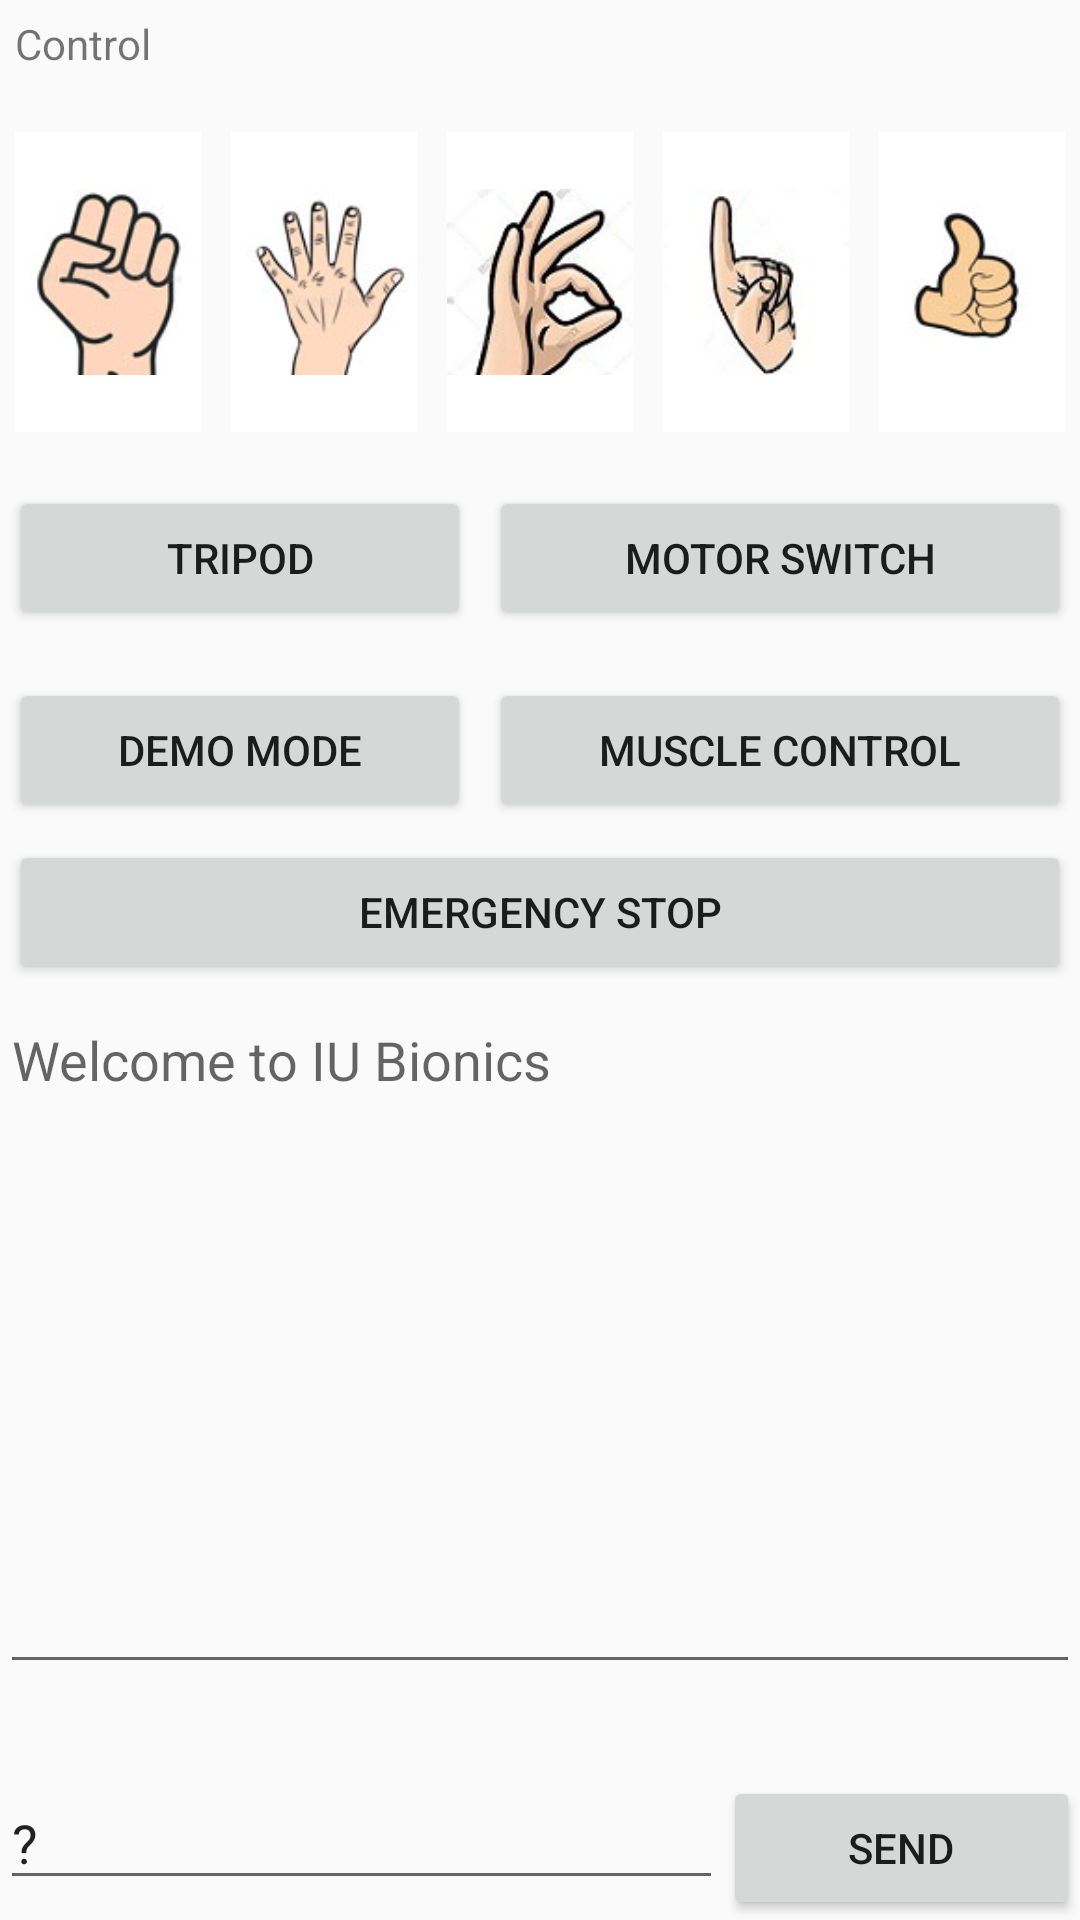

Where to tap for icons on this 1080*1920 app screen, as (x=x, y=y):
fist: (x=109, y=283)
palm: (x=330, y=287)
pinch: (x=535, y=282)
point: (x=753, y=285)
thumbup: (x=966, y=275)
